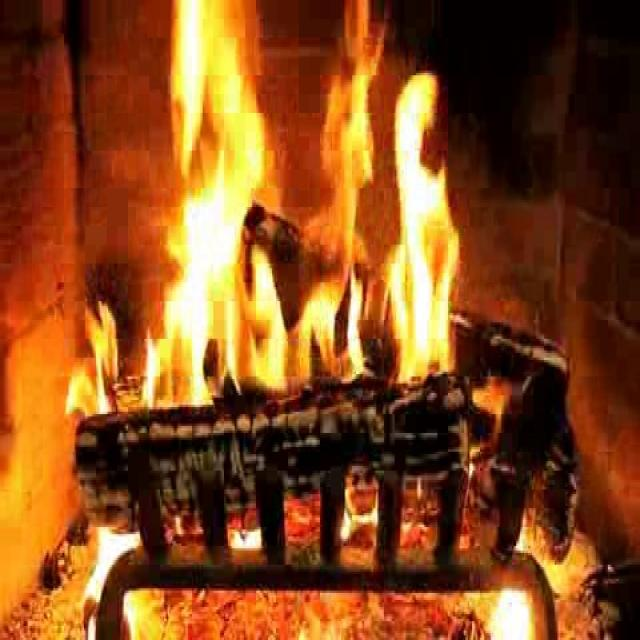fire: (142, 16, 470, 386)
